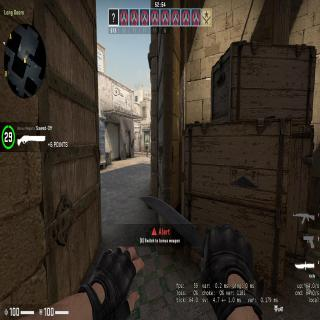CT-Body: (145, 142, 149, 156)
CT-Head: (147, 142, 148, 145)
